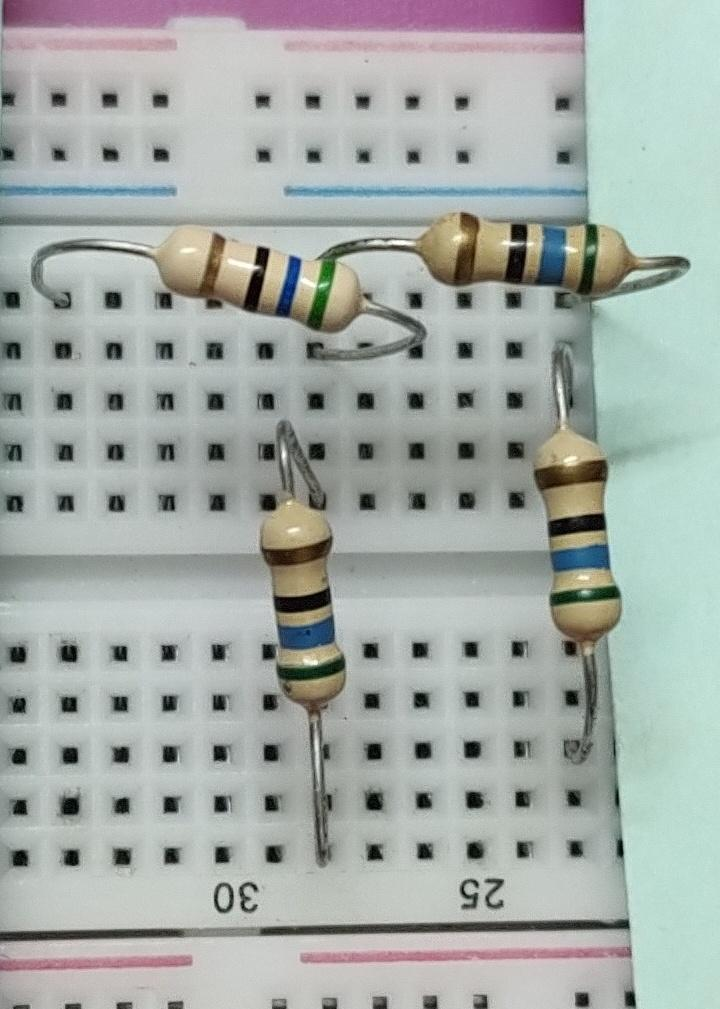resistor: (139, 219, 363, 341), (247, 493, 358, 724), (409, 197, 643, 300), (527, 429, 626, 658)
